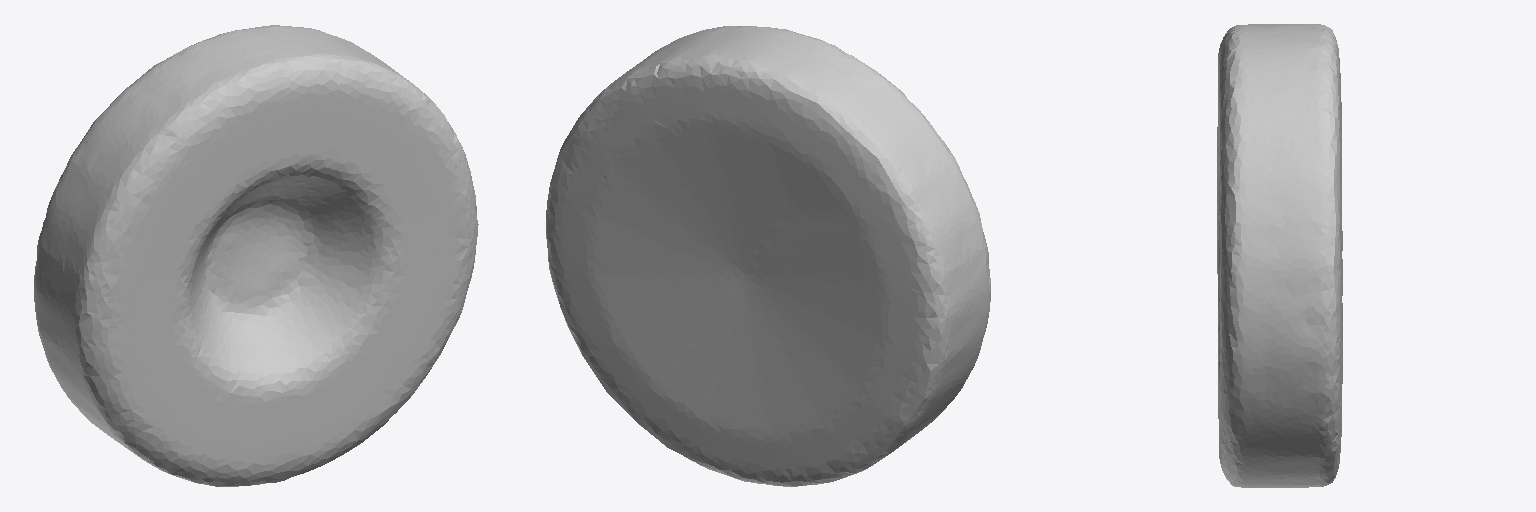
Rendered from Amulet_July_Lobe_34.obj.
3 views of the same model, side by side, from view 1: azimuth 30°, elevation 25°; view 2: azimuth 150°, elevation 25°; view 3: azimuth 270°, elevation 25° (orthographic).
Bounding box in the file's own units: 34.08 × 33.99 × 9.17.